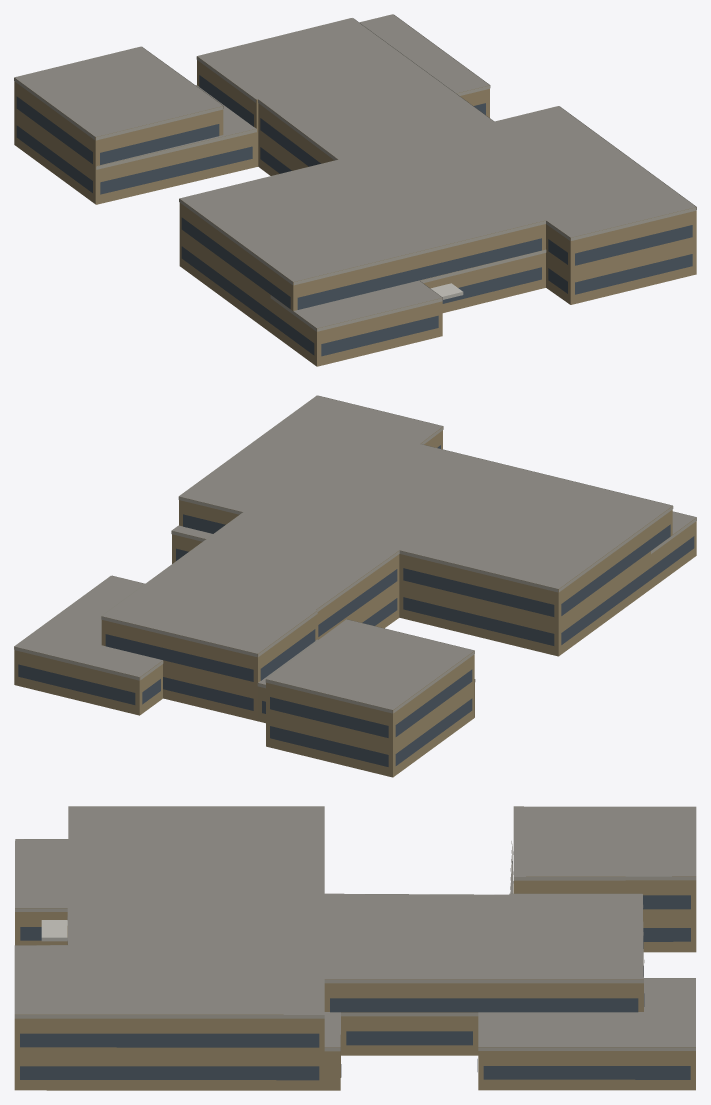
Rendered from nlr-community-center.glb.
3 views of the same model, one above another, from view 1: azimuth 30°, elevation 25°; view 2: azimuth 150°, elevation 25°; view 3: azimuth 270°, elevation 25° (orthographic). The views are drawn at different scales.
Parts seen in each view (by area): view 1: nlr_community_center; view 2: nlr_community_center; view 3: nlr_community_center.
Part boxes in pixels (box(x1,y1,x2,y2)): nlr_community_center: box(14, 14, 696, 366); nlr_community_center: box(14, 395, 696, 777); nlr_community_center: box(14, 806, 696, 1090).
Bounding box in the file's own units: 54.94 × 9.3 × 75.97.
